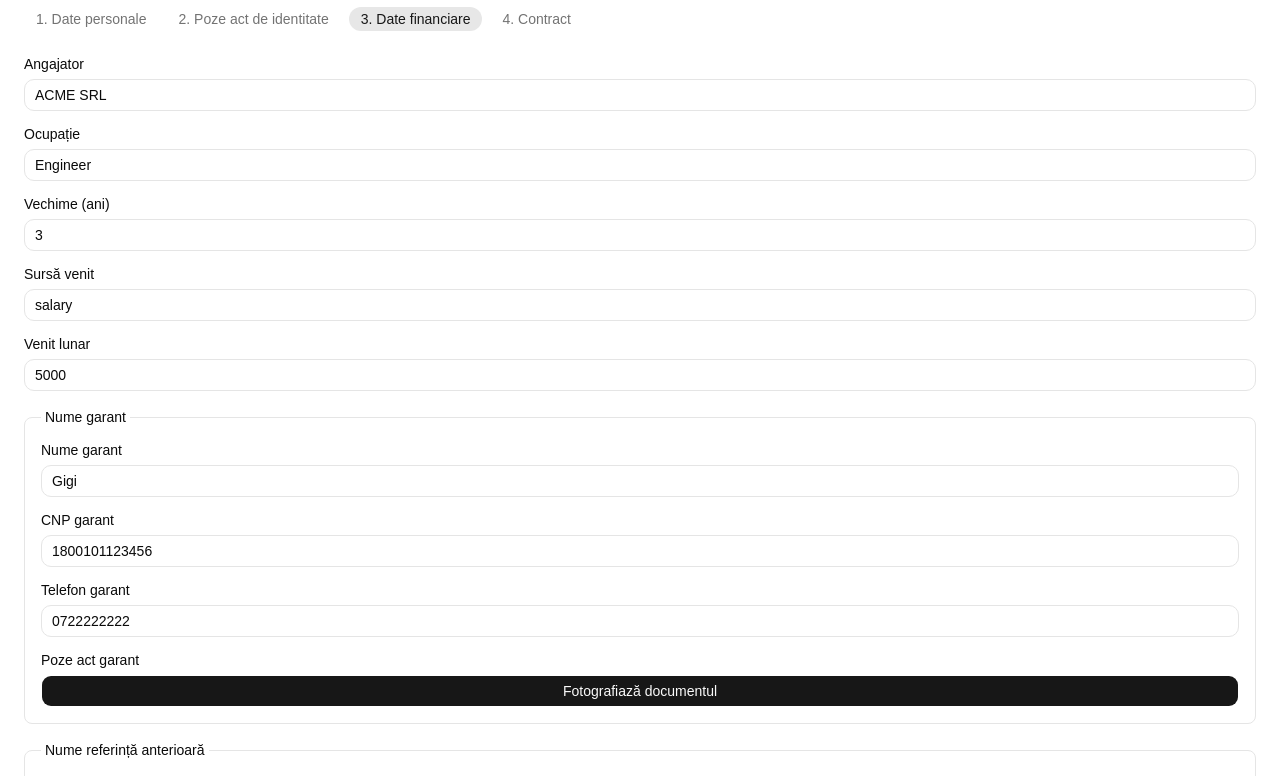
it: OnboardingWizardPage — shell › clicking a completed step autosaves and jumps straight back to it
Click the button "1. Date personale": {"x": 91, "y": 19} [24,5,158,33]
(page scrolled)
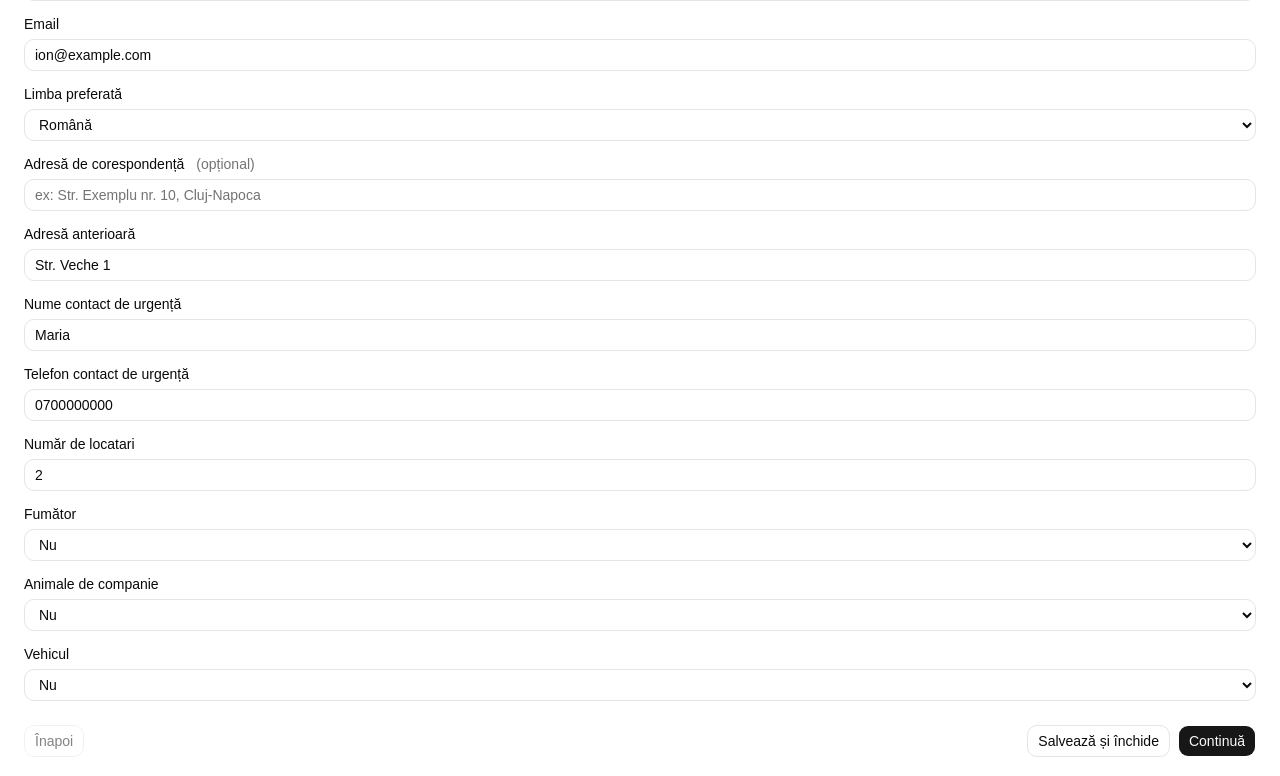
Check: the button "Înapoi" is disabled, box [24,725,84,757]
